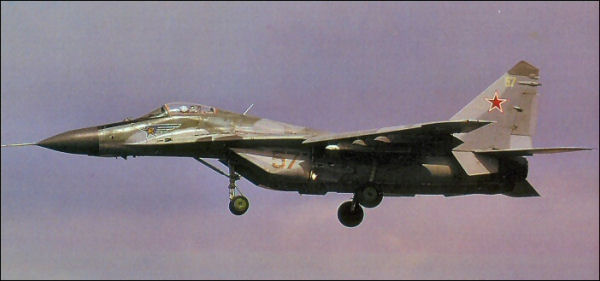Mig-29: (52, 45, 551, 245)
